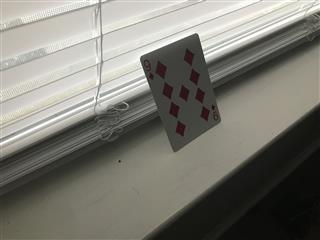NineOfDiamonds: (139, 32, 221, 152)
